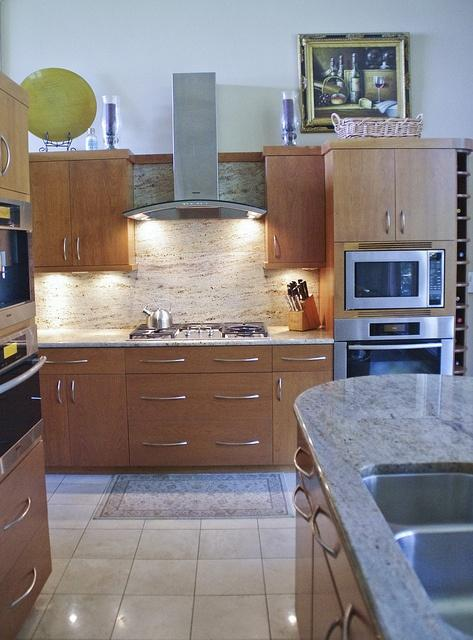Lemari: (331, 137, 455, 244), (27, 149, 133, 274)
